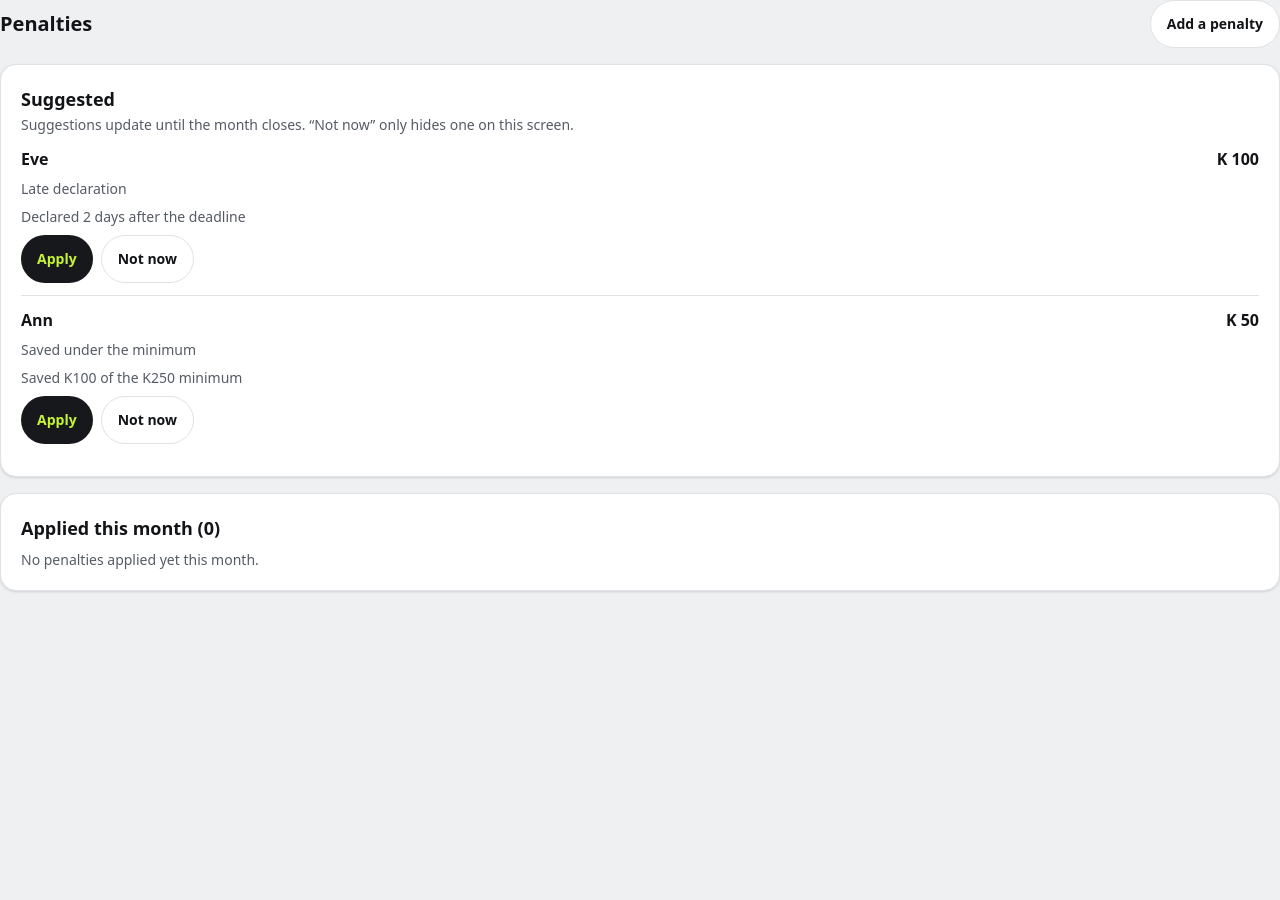
Test: Apply opens the sheet for that suggestion
The width and height of the screenshot is (1280, 900).
Click the button with aria-label "Apply penalty to Ann" at [57, 420], box [21,396,93,444]
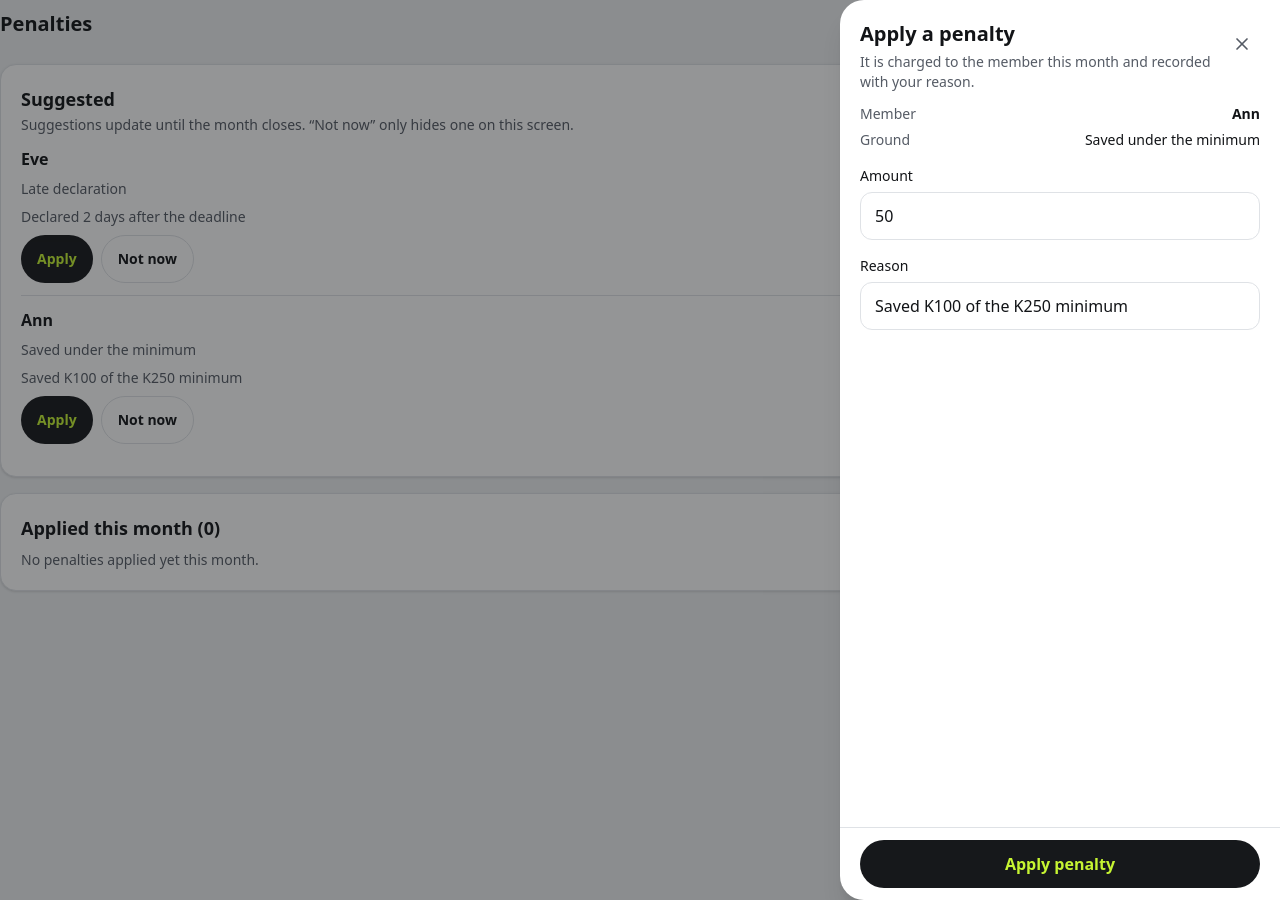
Expected: the dialog "Apply a penalty" is shown, [840,0,1279,899]
Expected: the field labelled "Amount" holds "50", [860,192,1260,240]
